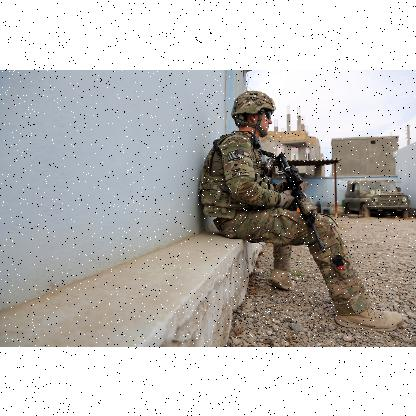gun: (272, 152, 328, 252)
